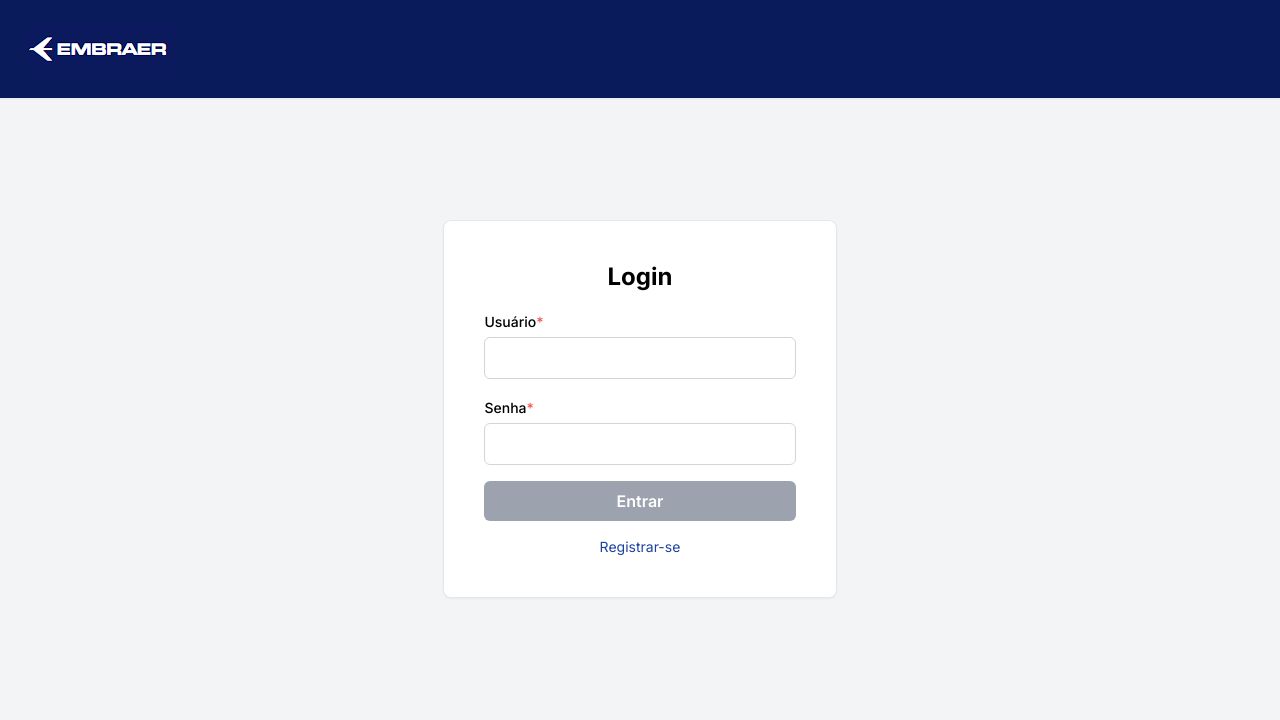
Test case: Aplicação de Tarefas - E2E › Validar botão desabilitado
Click the link "Registrar-se" at (641, 547), box x1=600 y1=538 x2=681 y2=555
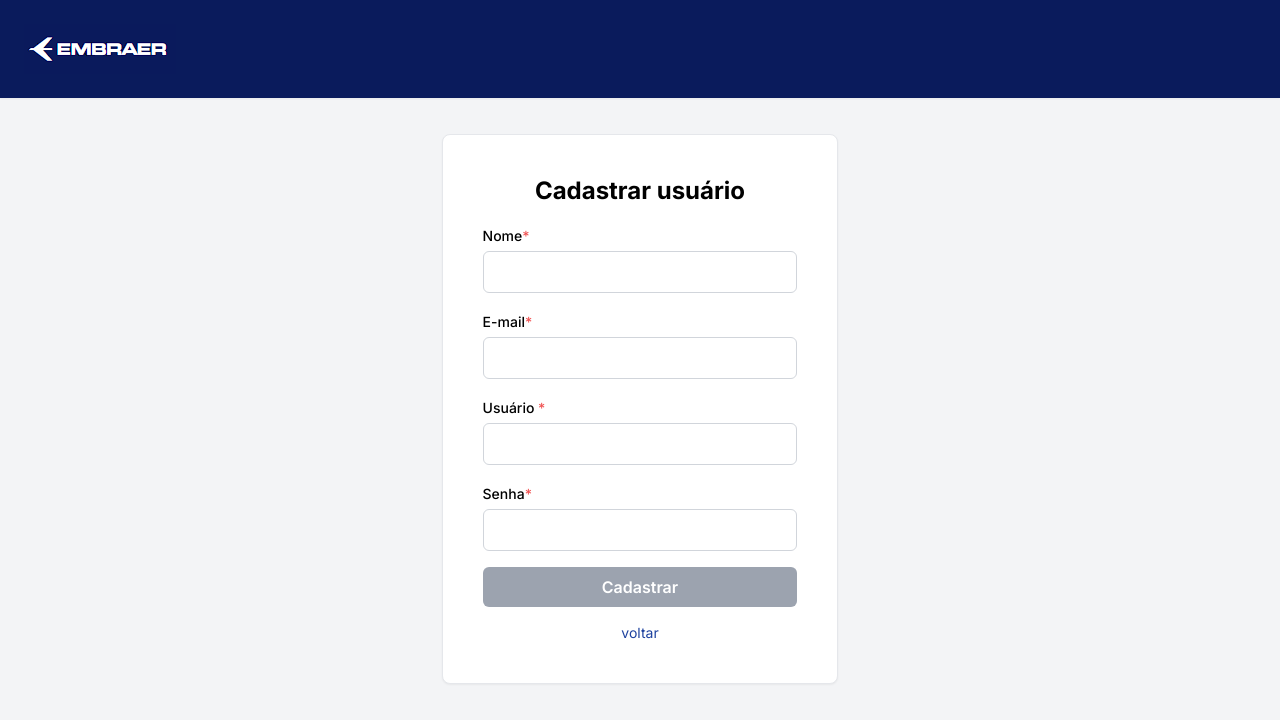
Type "Test user" into the field named "name" below "Nome" at (641, 272), box x1=483 y1=251 x2=798 y2=293
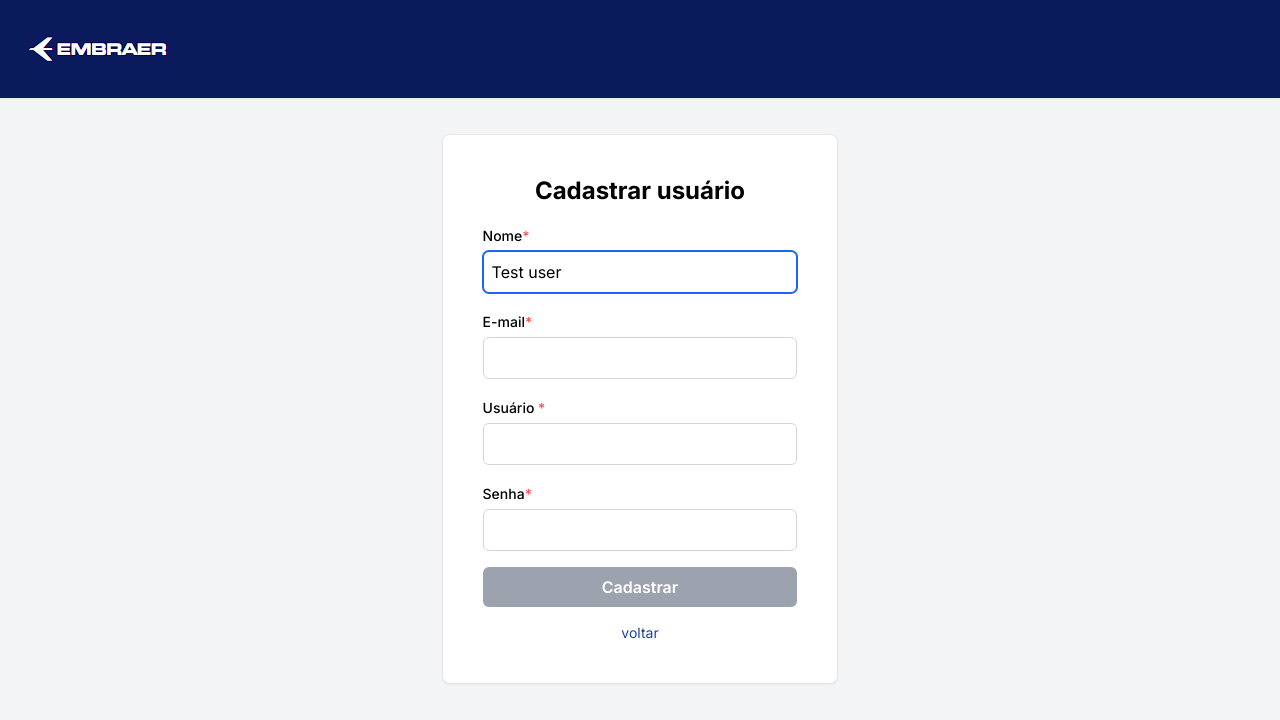
Type "teste@teste.com" into the field named "email" below "E-mail" at (641, 358), box x1=483 y1=337 x2=798 y2=379
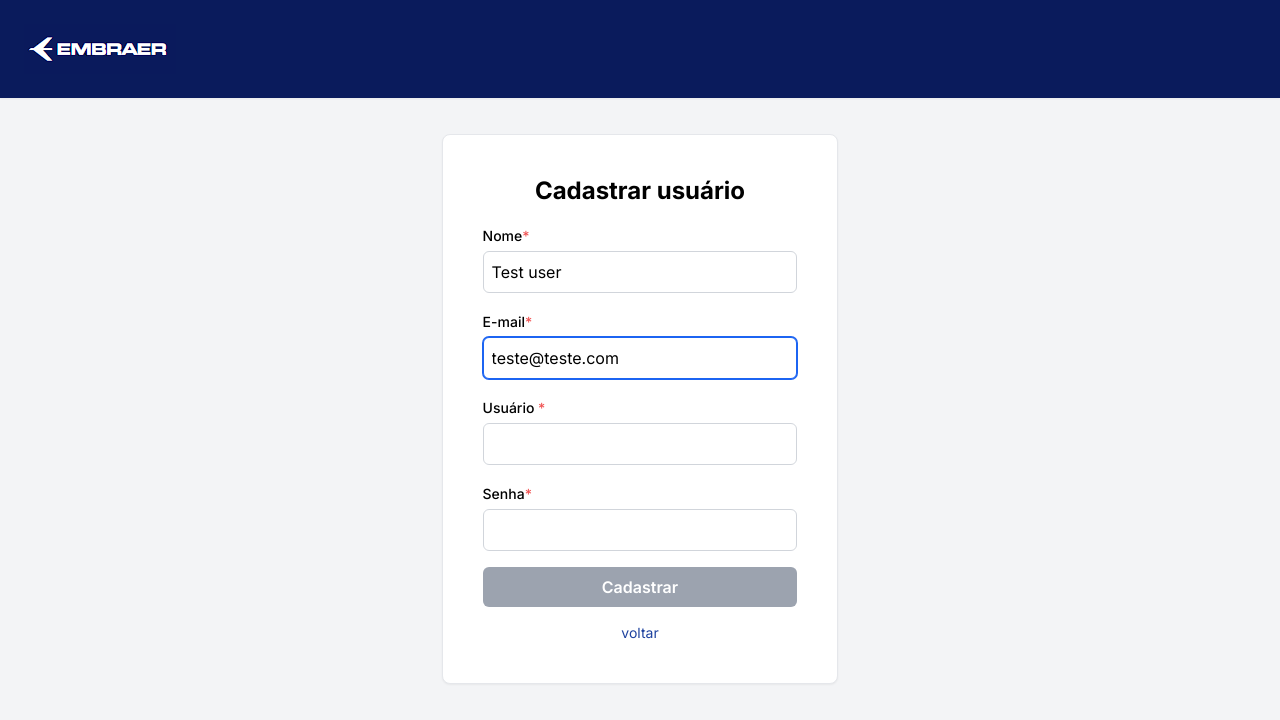
Type "testuser" into the 3rd field named "username" at (641, 444), box x1=483 y1=423 x2=798 y2=465
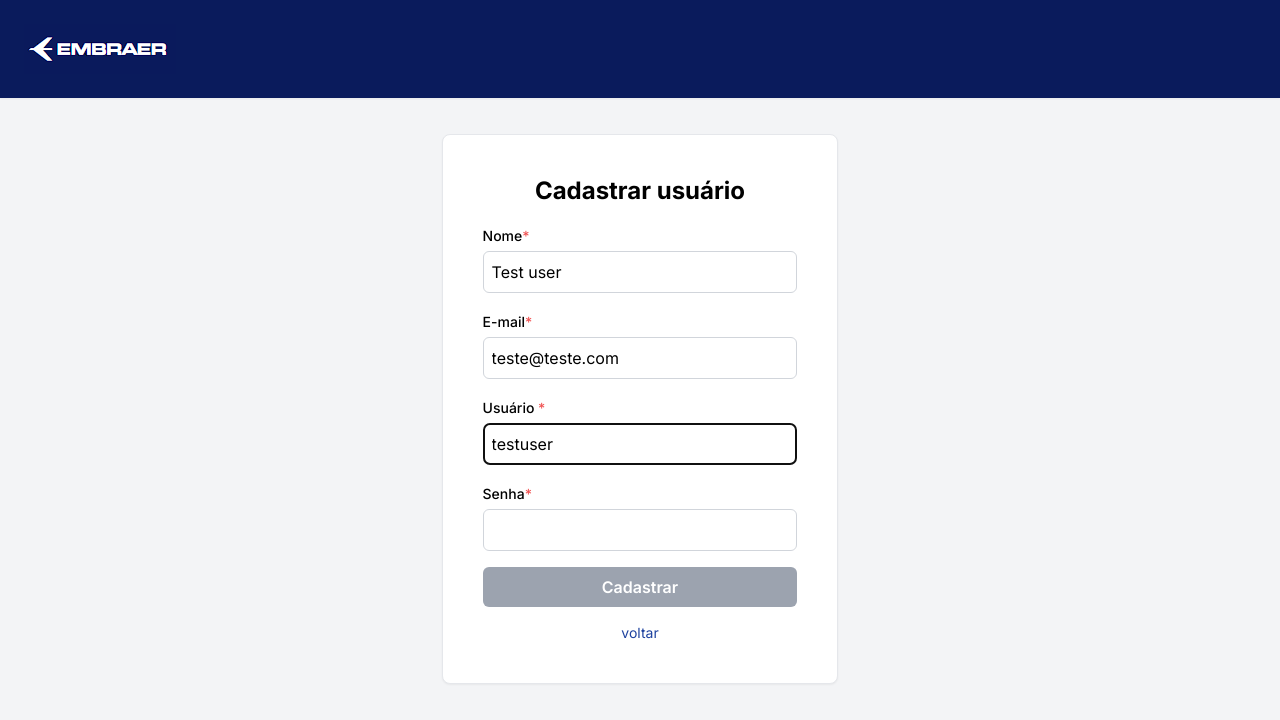
Type "senha@123" into the password field named "password" at (641, 530), box x1=483 y1=509 x2=798 y2=551
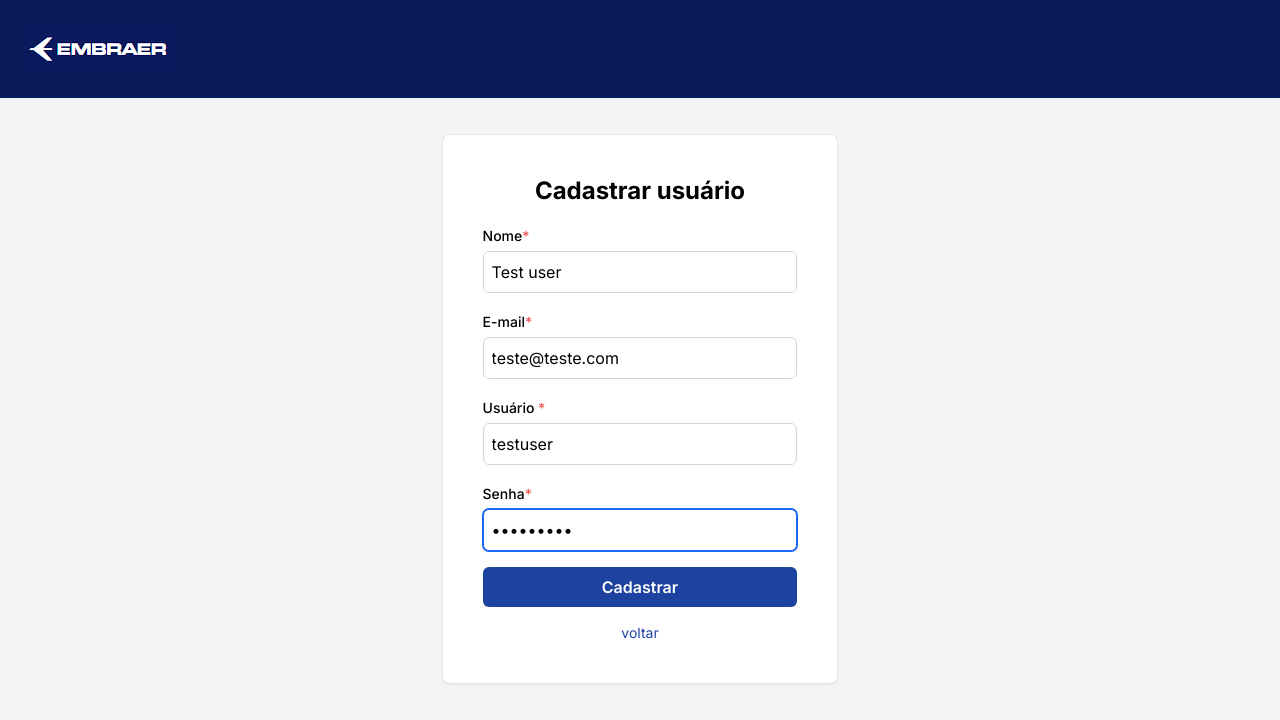
Now the button "Cadastrar" is enabled, box x1=483 y1=567 x2=798 y2=607
